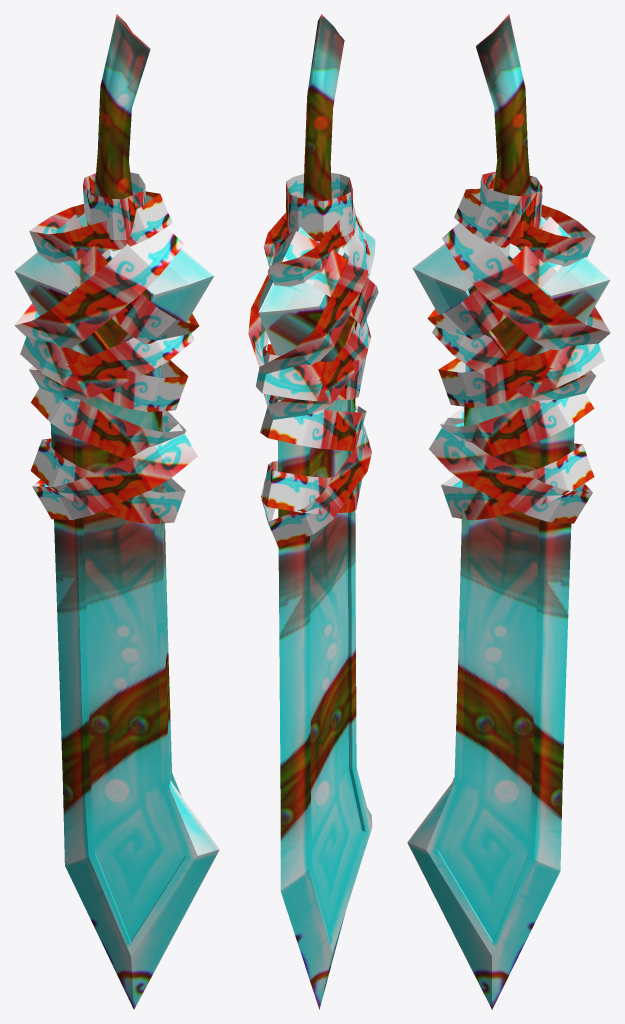
The model's file is GFSword.fbx.
3 views of the same model, side by side, from view 1: azimuth 90°, elevation 25°; view 2: azimuth 150°, elevation 25°; view 3: azimuth 270°, elevation 25° (orthographic).
Parts seen in each view (by area): view 1: SatyrMesh:SSword; view 2: SatyrMesh:SSword; view 3: SatyrMesh:SSword.
Part boxes in pixels (box(x1,y1,x2,y2)): SatyrMesh:SSword: box(14, 14, 219, 1009); SatyrMesh:SSword: box(248, 14, 378, 1009); SatyrMesh:SSword: box(407, 14, 610, 1009).
Size of the model in its own units: 0.4251 by 5.42 by 1.01.
